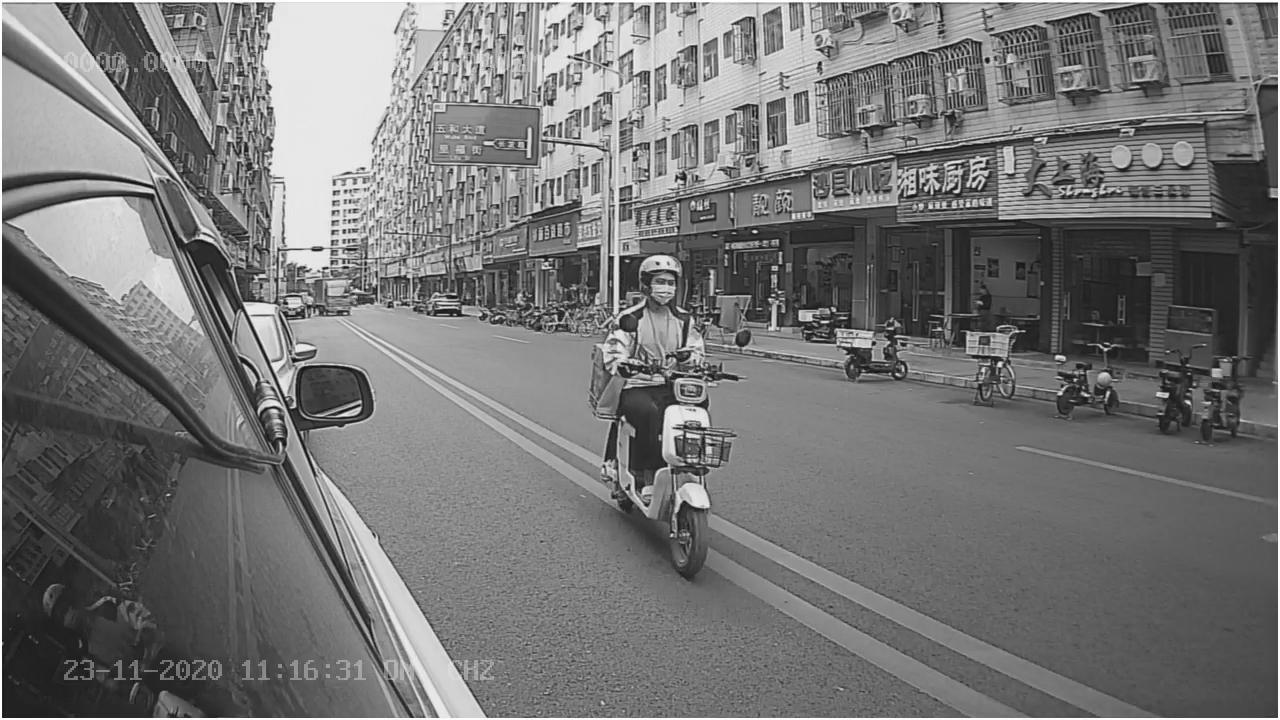person: (586, 252, 720, 365)
